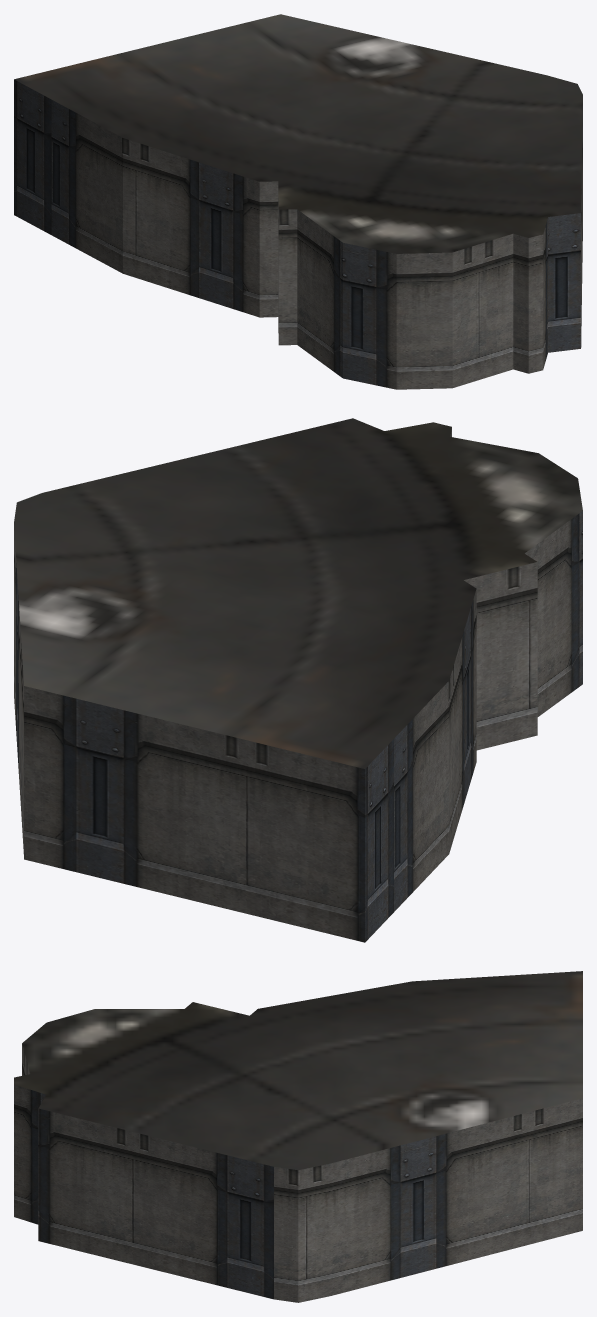
Rendered from dropship_06.glb.
3 views of the same model, one above another, from view 1: azimuth 30°, elevation 25°; view 2: azimuth 150°, elevation 25°; view 3: azimuth 270°, elevation 25° (orthographic). The views are drawn at different scales.
Visible parts, largest first — view 1: buildings/saxarba/dropship/dropship_06; view 2: buildings/saxarba/dropship/dropship_06; view 3: buildings/saxarba/dropship/dropship_06.
Part boxes in pixels (box(x1,y1,x2,y2)): buildings/saxarba/dropship/dropship_06: box(14, 14, 582, 389); buildings/saxarba/dropship/dropship_06: box(14, 418, 582, 942); buildings/saxarba/dropship/dropship_06: box(14, 971, 582, 1302).
Size of the model in its own units: 58 by 18 by 70.
